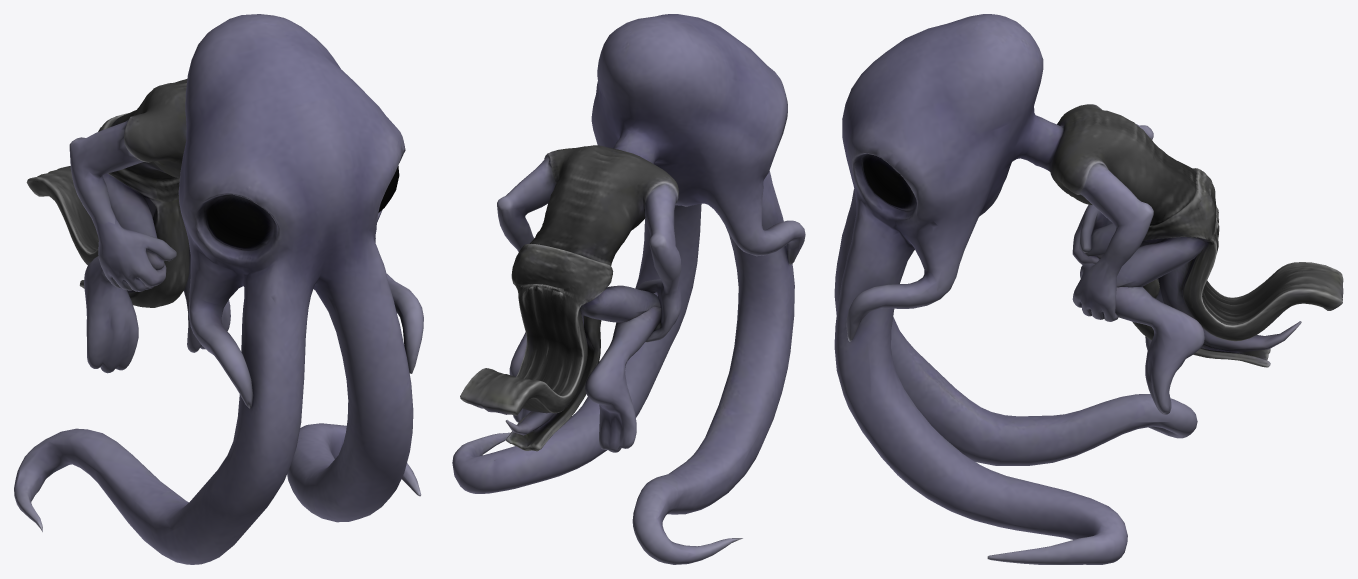
The model's file is Gnome Squidling.glb.
3 views of the same model, side by side, from view 1: azimuth 30°, elevation 25°; view 2: azimuth 150°, elevation 25°; view 3: azimuth 270°, elevation 25° (orthographic). The views are drawn at different scales.
Visible parts, largest first — view 1: Body.002; view 2: Body.002; view 3: Body.002.
Boxes of the visible parts, x1,y1,x2,y2 form: Body.002: (14,14,423,564); Body.002: (452,14,805,564); Body.002: (834,14,1343,564).
Bounding box in the file's own units: 0.3894 × 0.5814 × 0.5631.
Materials: 1 (1 with a texture image).
